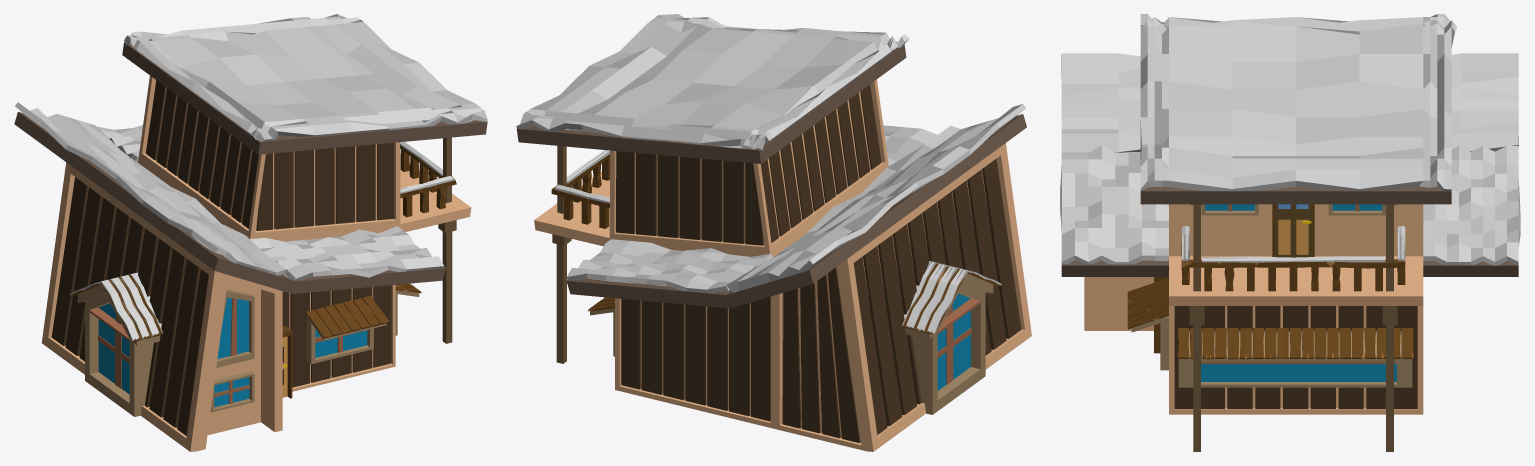
The model's file is House_02.fbx.
3 renders of one model, left to right at view 1: azimuth 30°, elevation 25°; view 2: azimuth 150°, elevation 25°; view 3: azimuth 270°, elevation 25°, orthographic. The views are drawn at different scales.
Visible parts, largest first — view 1: House_02_Snow, House_02_Detail_01, House_02, House_02_Window_Detail_02, House_02_Windows_Roof, House_02_Detail_02, House_02_Window_Detail_01, House_02_Detail_03, House_02_Detail_04, House_02_Door_Detail_02; view 2: House_02_Detail_01, House_02_Snow, House_02, House_02_Window_Detail_02, House_02_Detail_02, House_02_Detail_03, House_02_Window_Detail_01, House_02_Windows_Roof, House_02_Detail_04; view 3: House_02_Snow, House_02, House_02_Detail_01, House_02_Window_Detail_02, House_02_Windows_Roof, House_02_Detail_02, House_02_Detail_03, House_02_Door_Detail_05, House_02_Detail_04.
Part boxes in pixels (left/top/right/bottom): House_02_Snow: left=15, top=14, right=487, bottom=341; House_02_Detail_01: left=51, top=80, right=394, bottom=435; House_02: left=14, top=42, right=487, bottom=451; House_02_Window_Detail_02: left=77, top=278, right=419, bottom=416; House_02_Windows_Roof: left=71, top=275, right=421, bottom=341; House_02_Detail_02: left=438, top=137, right=456, bottom=343; House_02_Window_Detail_01: left=89, top=298, right=367, bottom=404; House_02_Detail_03: left=400, top=149, right=445, bottom=217; House_02_Detail_04: left=400, top=145, right=456, bottom=198; House_02_Door_Detail_02: left=282, top=326, right=292, bottom=398; House_02_Detail_01: left=616, top=84, right=1021, bottom=442; House_02_Snow: left=516, top=14, right=1025, bottom=334; House_02: left=516, top=44, right=1031, bottom=451; House_02_Window_Detail_02: left=590, top=266, right=993, bottom=414; House_02_Detail_02: left=552, top=146, right=571, bottom=363; House_02_Detail_03: left=563, top=157, right=609, bottom=228; House_02_Window_Detail_01: left=937, top=298, right=980, bottom=384; House_02_Windows_Roof: left=588, top=263, right=1000, bottom=334; House_02_Detail_04: left=551, top=154, right=609, bottom=208; House_02_Snow: left=1060, top=14, right=1520, bottom=265; House_02: left=1061, top=121, right=1518, bottom=414; House_02_Detail_01: left=1174, top=306, right=1417, bottom=408; House_02_Window_Detail_02: left=1131, top=204, right=1412, bottom=387; House_02_Windows_Roof: left=1127, top=278, right=1413, bottom=359; House_02_Detail_02: left=1189, top=204, right=1397, bottom=451; House_02_Detail_03: left=1181, top=243, right=1405, bottom=291; House_02_Door_Detail_05: left=1275, top=204, right=1311, bottom=257; House_02_Detail_04: left=1182, top=231, right=1405, bottom=268.
Size of the model in its own units: 786 by 621 by 815.
